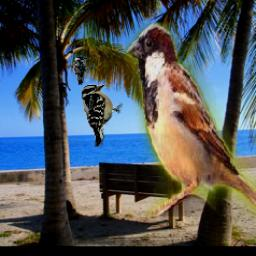Sparrow: (125, 23, 256, 217)
Woodpecker: (80, 83, 123, 148), (72, 56, 97, 85)
